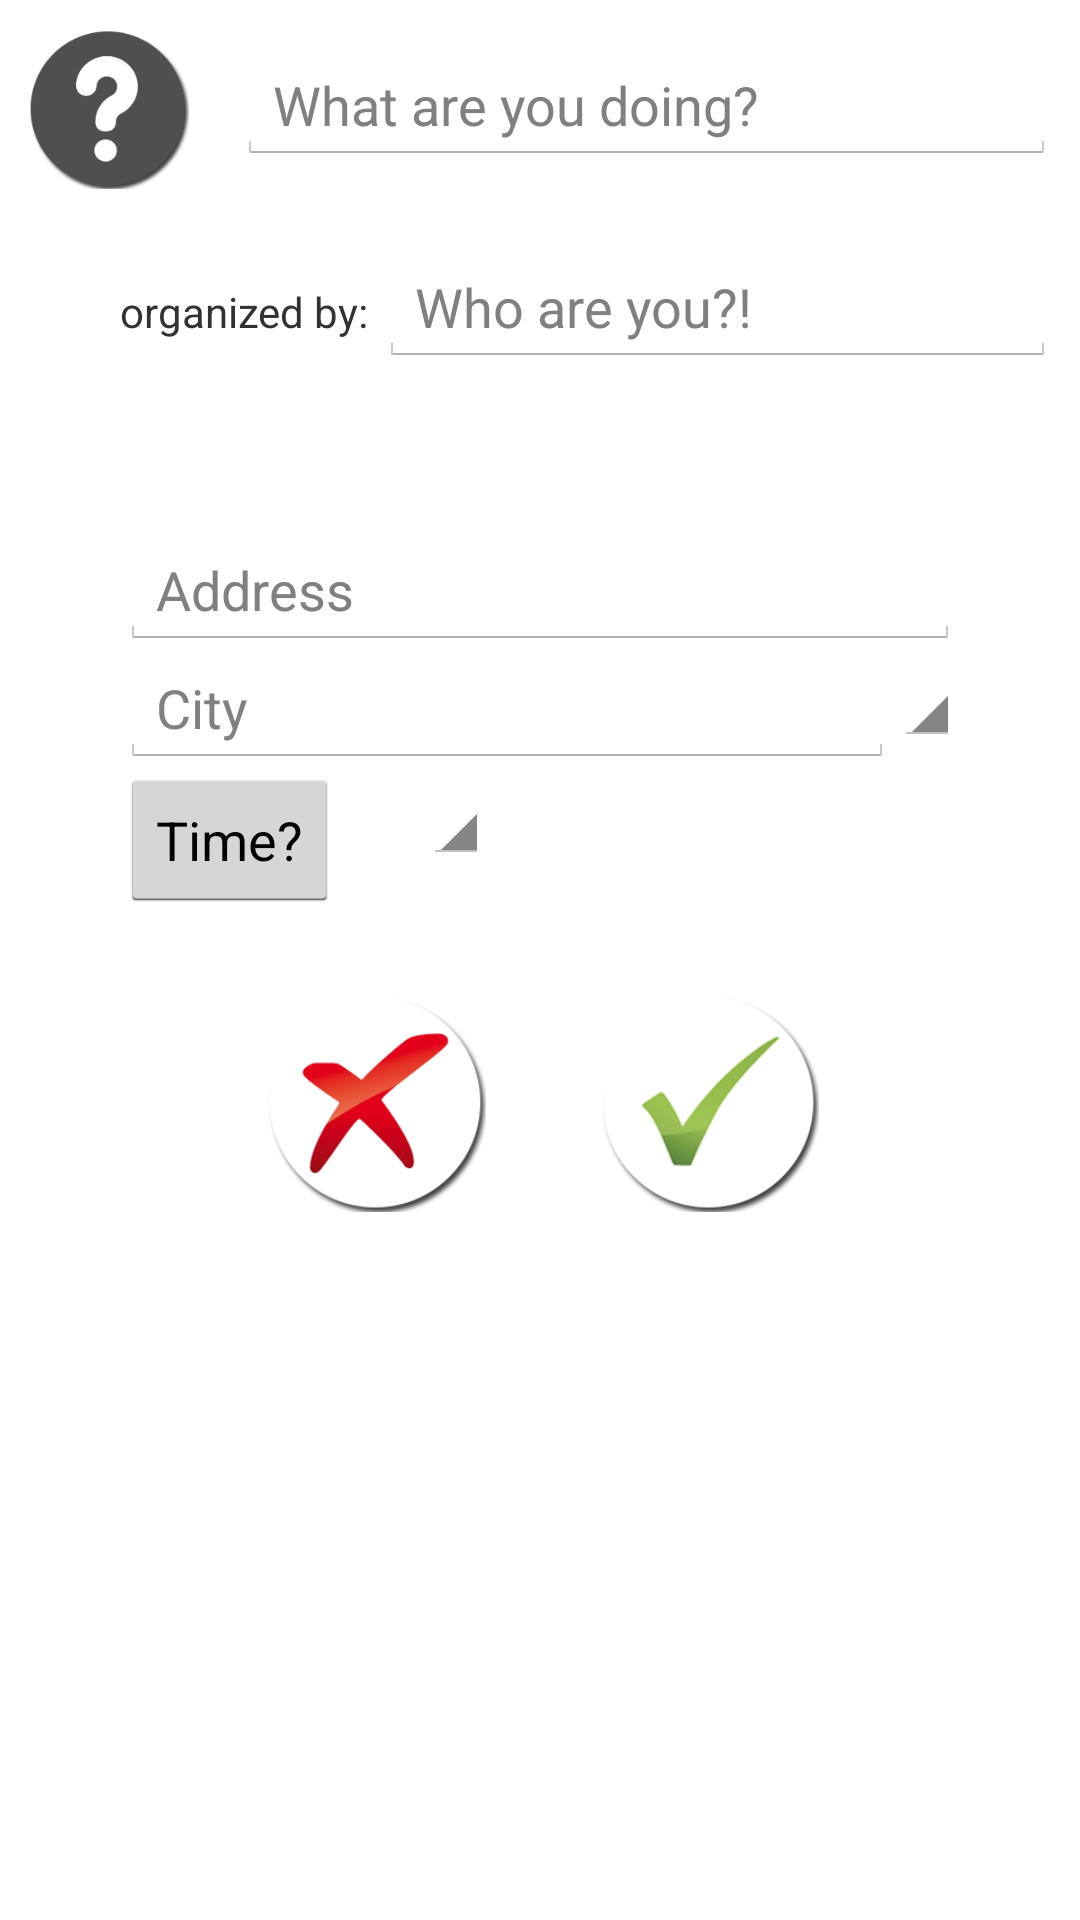

Point at icon controls on the screen. Image size 1080w x 1920h, points as point (x, y).
greencheck: point (714, 1115)
questionmark: point (109, 110)
redx: point (381, 1115)
